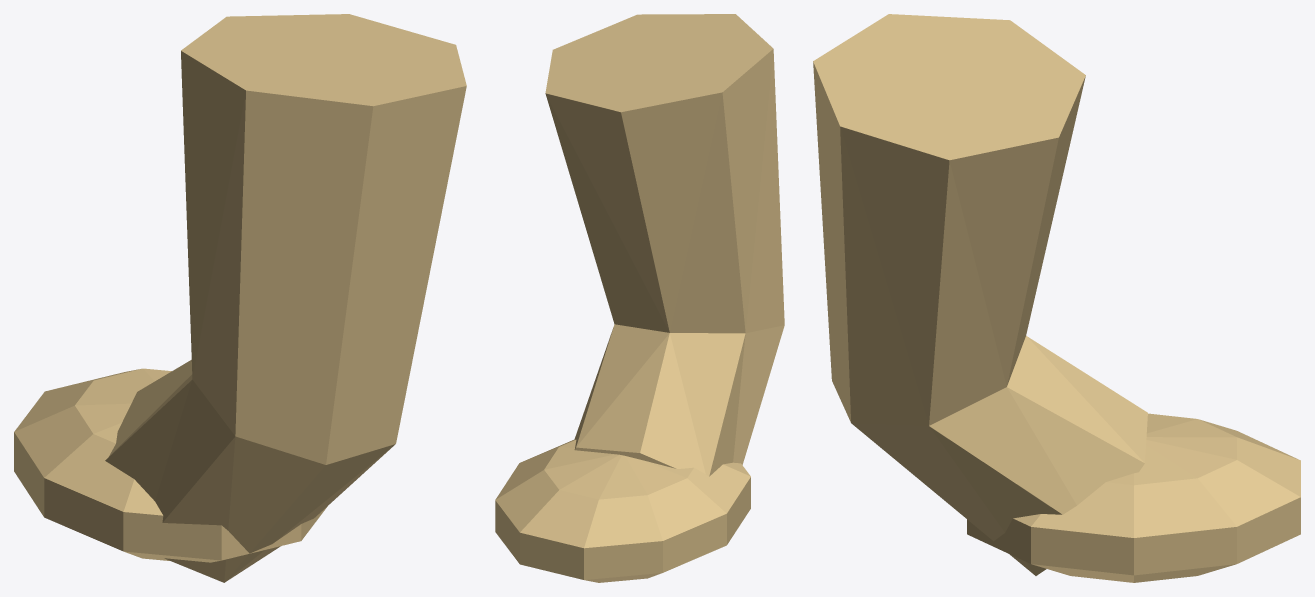
Rendered from gorehulk_a_leg_-1.obj.
3 views of the same model, side by side, from view 1: azimuth 30°, elevation 25°; view 2: azimuth 150°, elevation 25°; view 3: azimuth 270°, elevation 25° (orthographic). The views are drawn at different scales.
Visible parts, largest first — view 1: gorehulk_a_leg_-1; view 2: gorehulk_a_leg_-1; view 3: gorehulk_a_leg_-1.
Part boxes in pixels (<box>): gorehulk_a_leg_-1: <box>14,14,466,582</box>; gorehulk_a_leg_-1: <box>495,14,784,582</box>; gorehulk_a_leg_-1: <box>813,14,1300,582</box>.
Bounding box in the file's own units: 0.3338 × 0.5594 × 0.4759.
